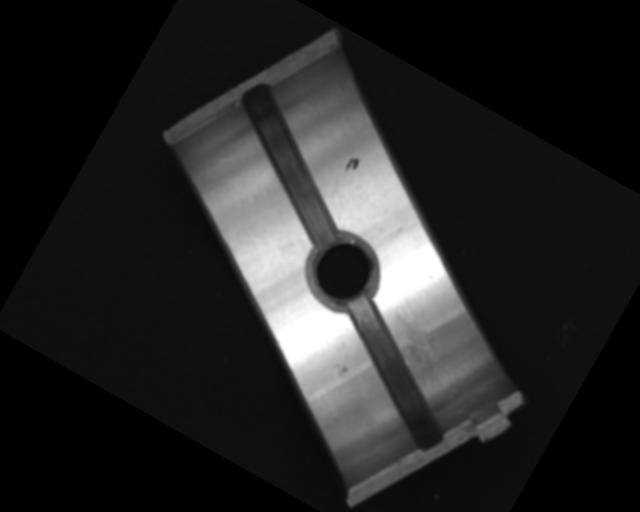blot: (342, 153, 362, 175)
bruise: (328, 359, 352, 382)
gap: (197, 78, 381, 250), (306, 294, 483, 456)
hole: (296, 224, 390, 321)
nick: (381, 205, 420, 250)
scratch: (366, 301, 468, 396)
